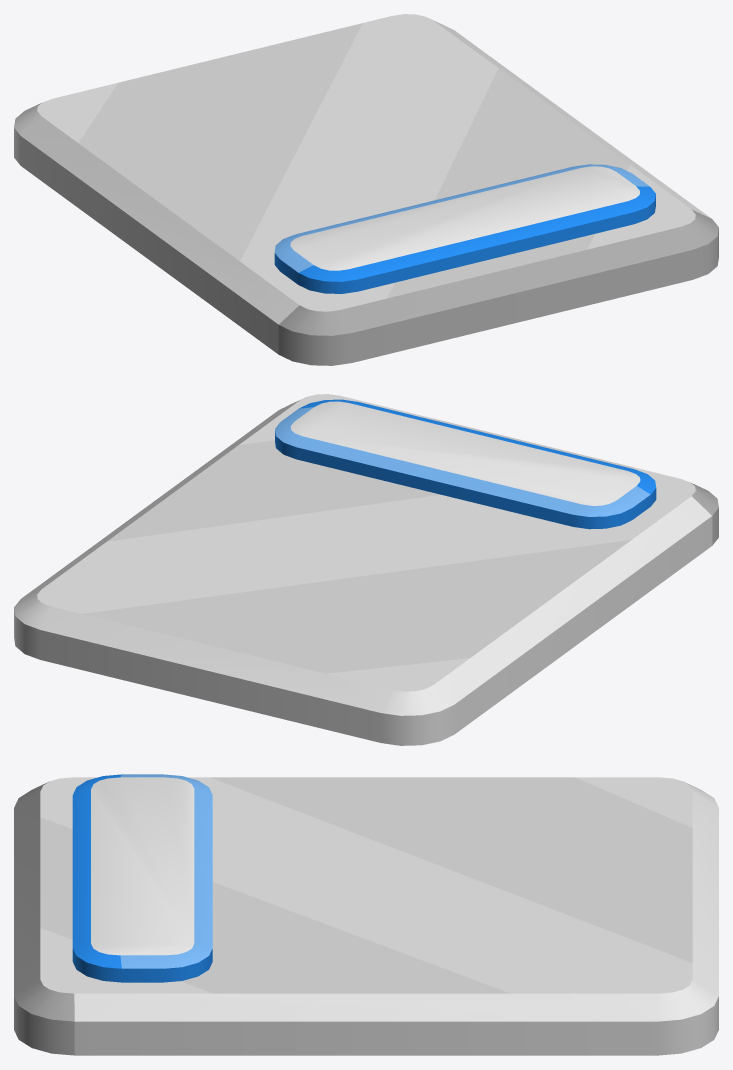
The model's file is merge labels.fbx.
The picture shows the model from 3 angles, top to bottom: view 1: azimuth 30°, elevation 25°; view 2: azimuth 150°, elevation 25°; view 3: azimuth 270°, elevation 25°; orthographic projection. The views are drawn at different scales.
Parts seen in each view (by area): view 1: beyaz zemin, mavi etiket; view 2: beyaz zemin, mavi etiket; view 3: beyaz zemin, mavi etiket.
Part boxes in pixels (x1,y1,x2,y2): beyaz zemin: [14, 14, 718, 365]; mavi etiket: [274, 164, 655, 293]; beyaz zemin: [14, 394, 718, 745]; mavi etiket: [275, 399, 656, 529]; beyaz zemin: [14, 777, 718, 1055]; mavi etiket: [72, 774, 212, 982].
Bounding box in the file's own units: 763 × 103 × 950.
